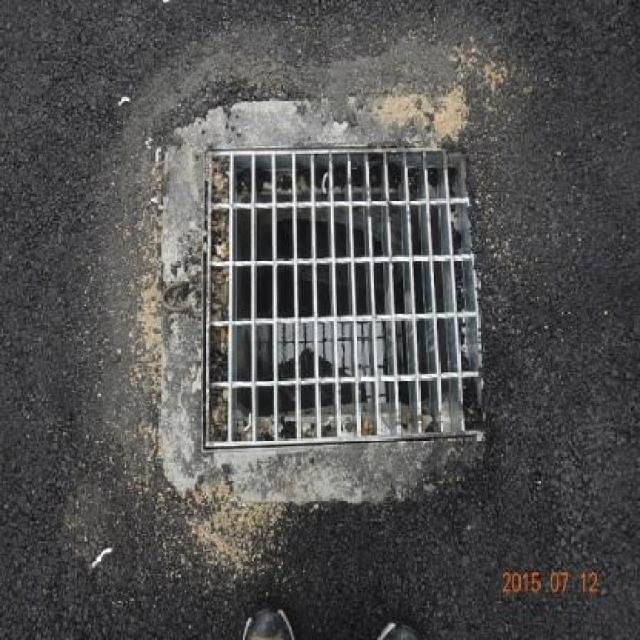drain-clean-: (195, 130, 498, 461)
